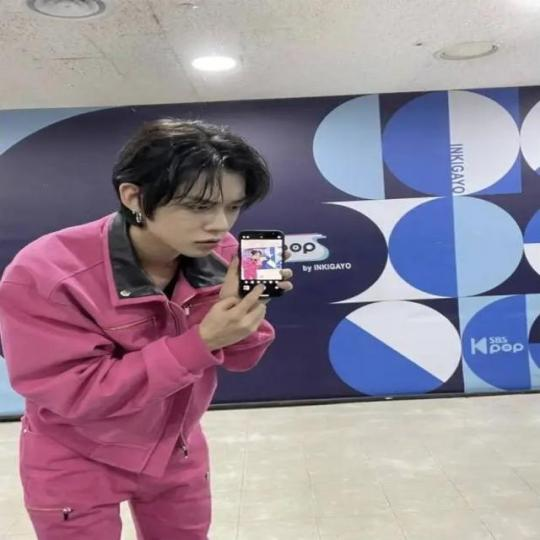phone: (242, 230, 287, 296)
